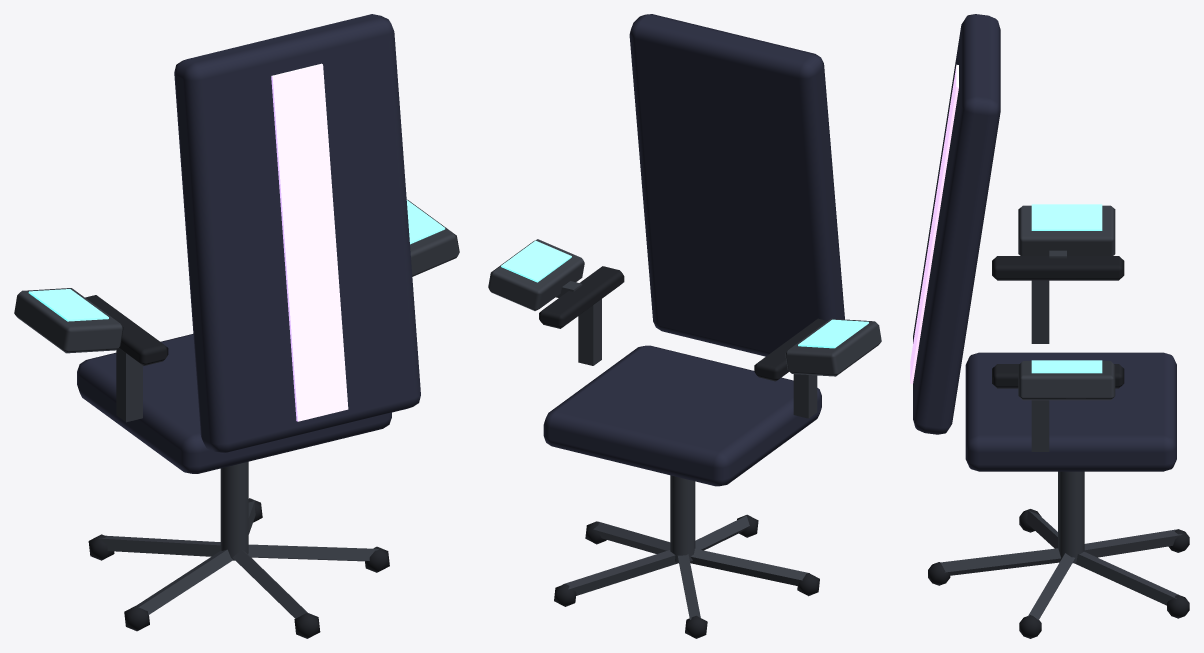
The model's file is station_processing_ausstattung_3_3.glb.
3 renders of one model, left to right at view 1: azimuth 30°, elevation 25°; view 2: azimuth 150°, elevation 25°; view 3: azimuth 270°, elevation 25°, orthographic. The views are drawn at different scales.
Parts seen in each view (by area): view 1: station_processing_ausstattung_3_3; view 2: station_processing_ausstattung_3_3; view 3: station_processing_ausstattung_3_3.
Part boxes in pixels (left/top/right/bottom): station_processing_ausstattung_3_3: left=14, top=14, right=459, bottom=638; station_processing_ausstattung_3_3: left=488, top=14, right=881, bottom=638; station_processing_ausstattung_3_3: left=910, top=14, right=1189, bottom=638.
Size of the model in its own units: 0.9448 by 1.33 by 0.6334.
